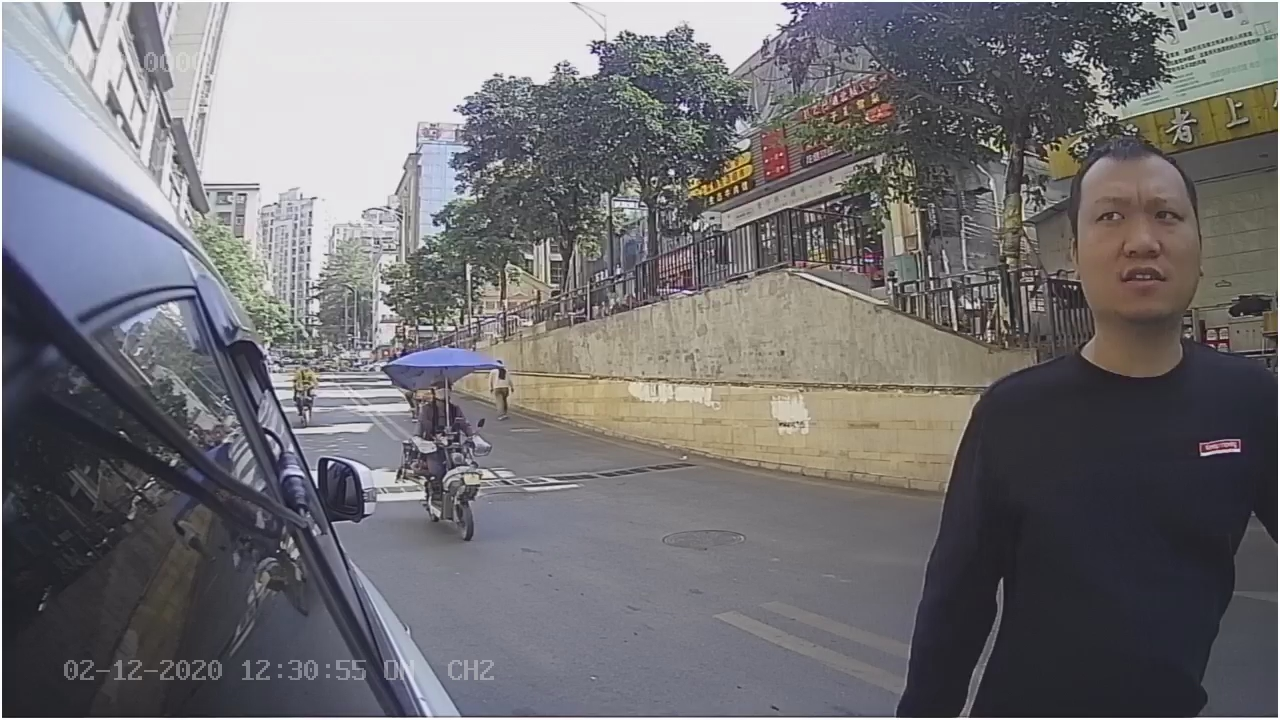person: (944, 127, 1271, 597)
